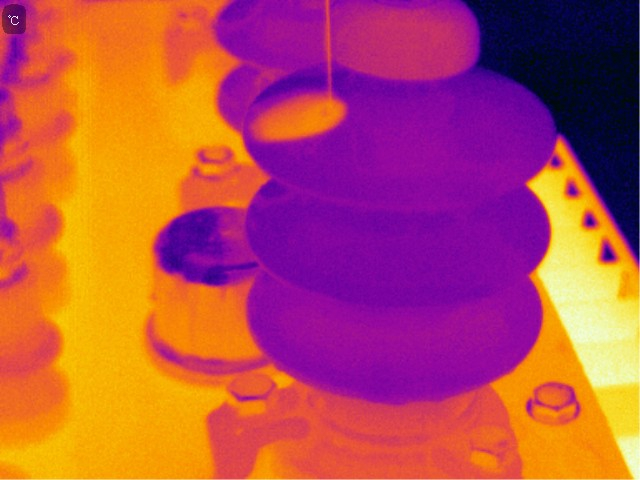Oil: (326, 5, 478, 78), (250, 91, 352, 150), (381, 130, 466, 178), (257, 191, 299, 209)
